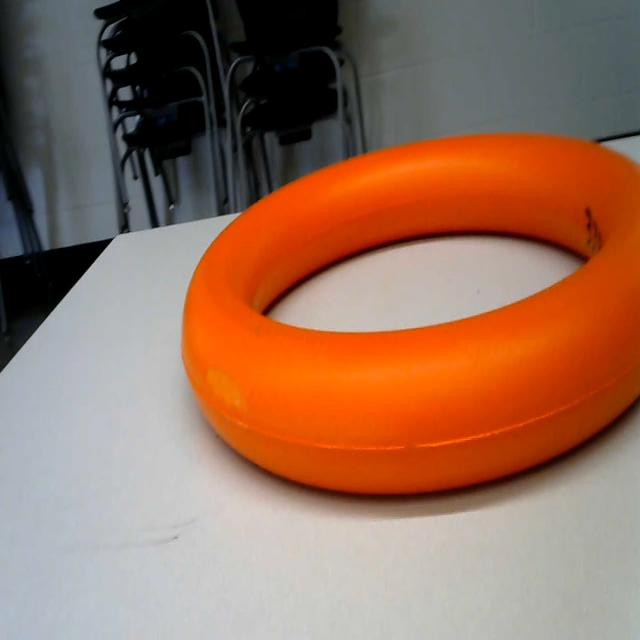note: (166, 123, 640, 546)
